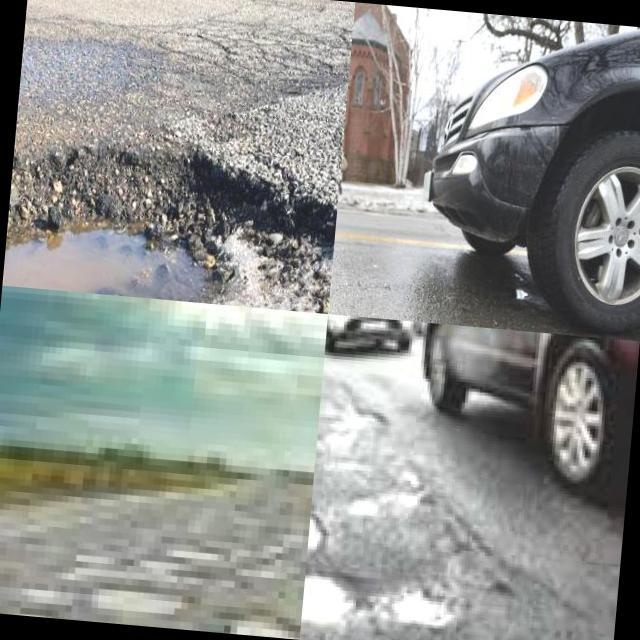Pothole: (2, 149, 337, 314), (91, 584, 182, 619), (300, 577, 355, 625), (230, 614, 299, 639)
